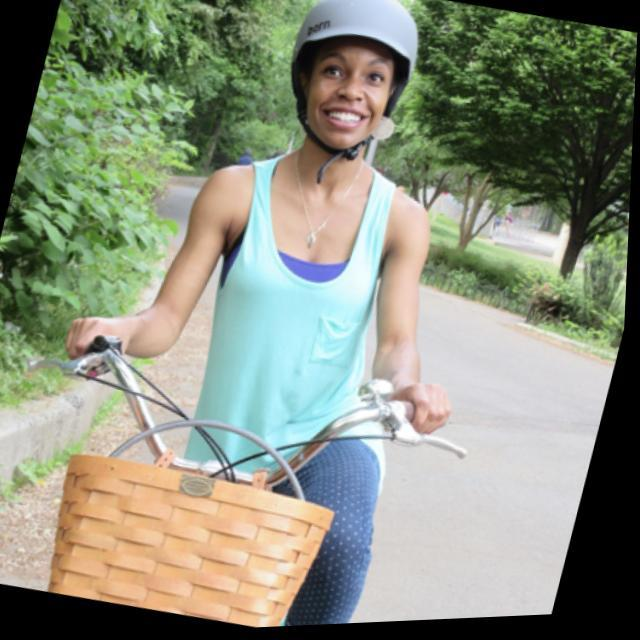Helmet: (284, 0, 422, 156)
